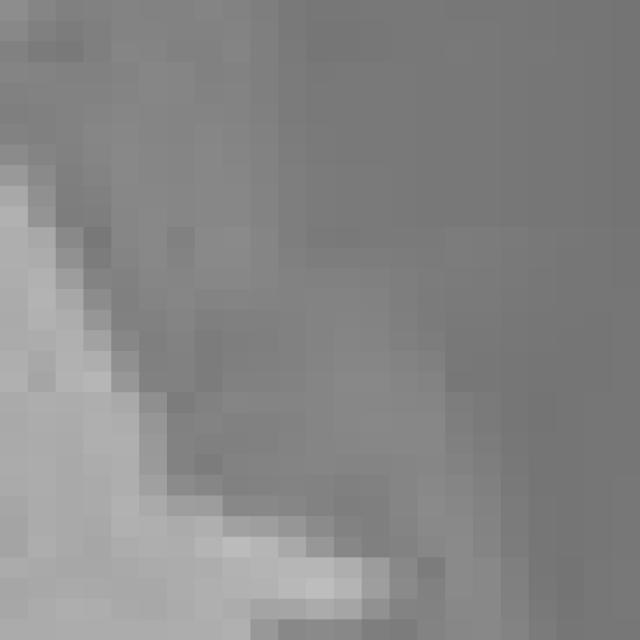fracture: (9, 7, 640, 638)
